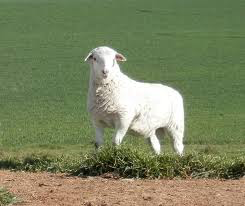koyun: (85, 46, 185, 161)
